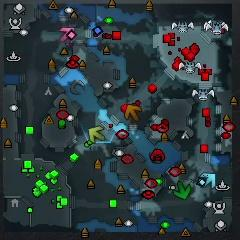x1: (60, 26, 76, 45)
x2: (88, 125, 106, 144)
x3: (200, 172, 216, 189)
x4: (172, 180, 192, 199)
x5: (124, 104, 142, 122)
